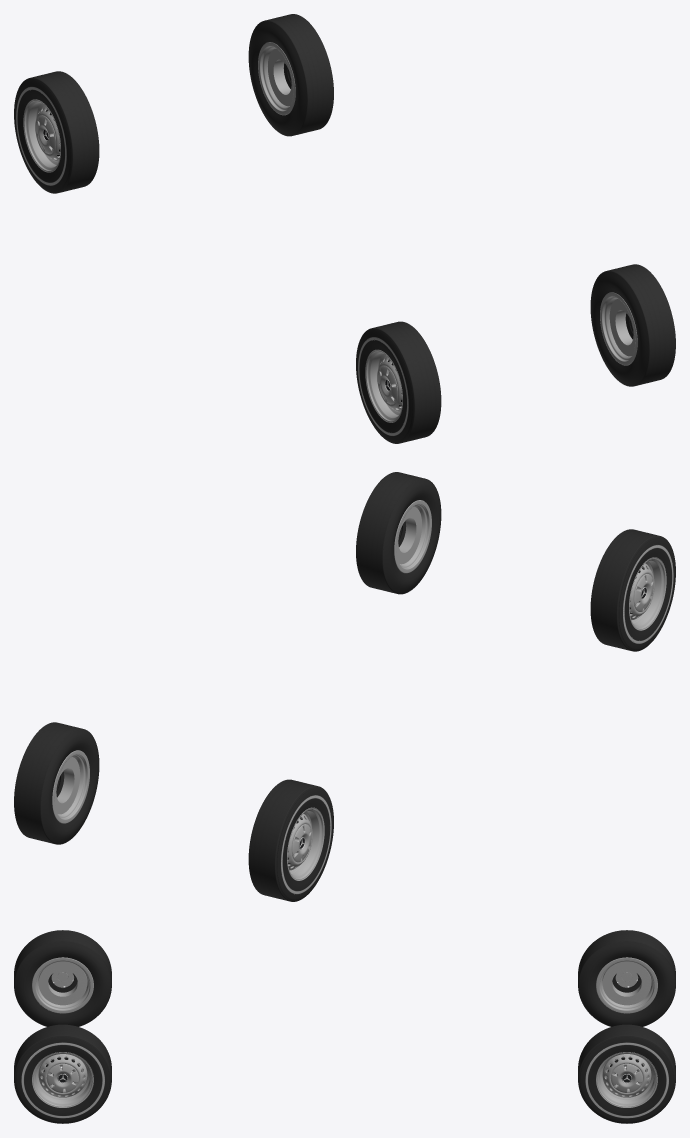
File: Tyre_1.glb
3 views of the same model, one above another, from view 1: azimuth 30°, elevation 25°; view 2: azimuth 150°, elevation 25°; view 3: azimuth 270°, elevation 25° (orthographic). The views are drawn at different scales.
Visible parts, largest first — view 1: Tyres_1; view 2: Tyres_1; view 3: Tyres_1.
Boxes of the visible parts, x1,y1,x2,y2 form: Tyres_1: [14, 14, 675, 443]; Tyres_1: [14, 472, 675, 901]; Tyres_1: [14, 930, 675, 1123].
Bounding box in the file's own units: 1.9 × 0.7351 × 4.97.
Materials: 4 (4 with a texture image).
